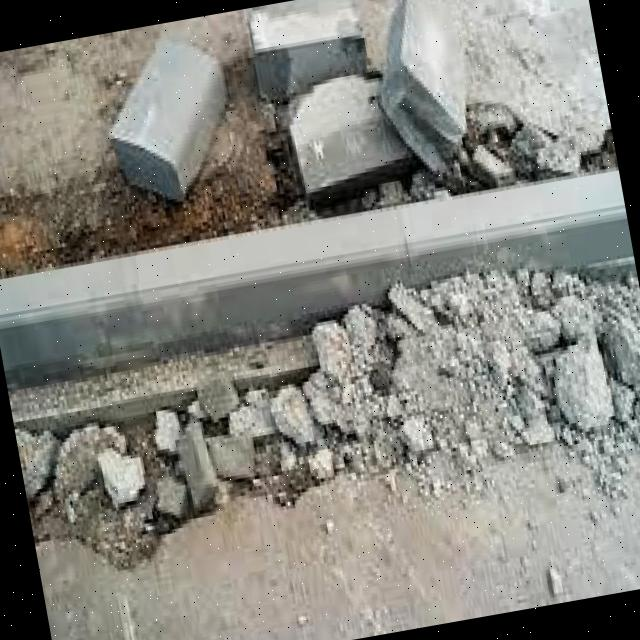curb: (1, 175, 636, 373)
